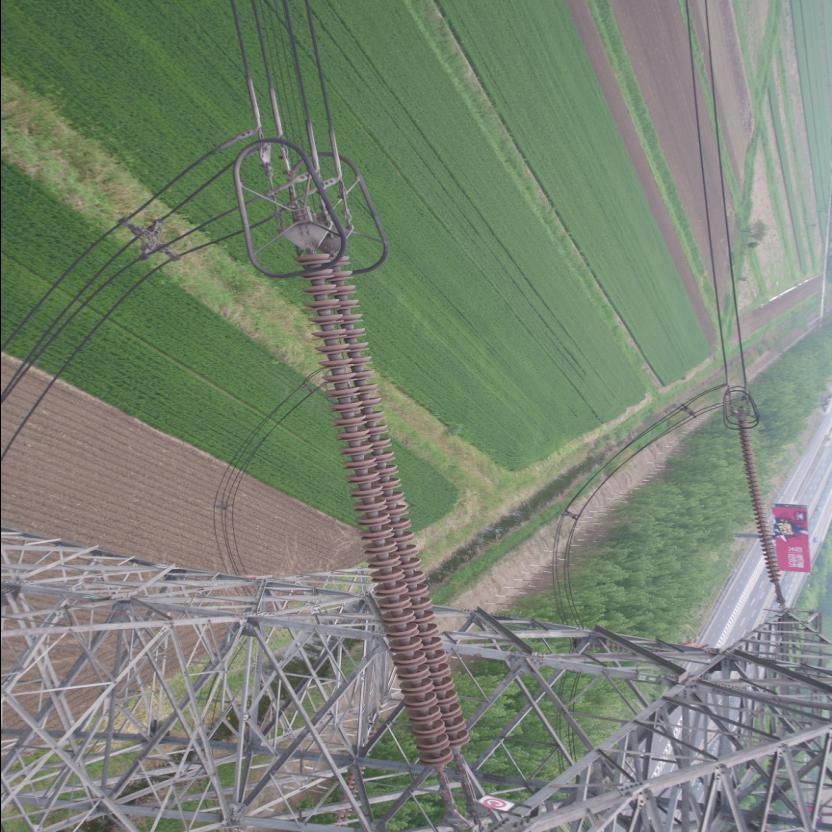insulator: (294, 235, 473, 791), (735, 416, 783, 598)
